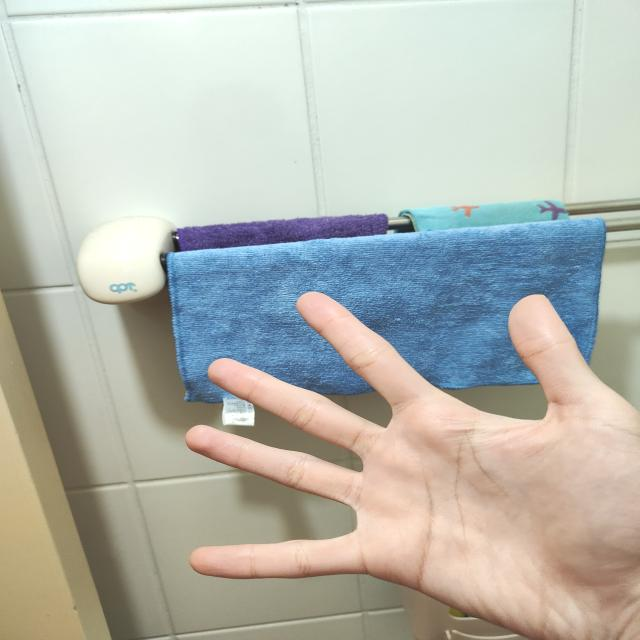no_glove: (172, 274, 640, 640)
